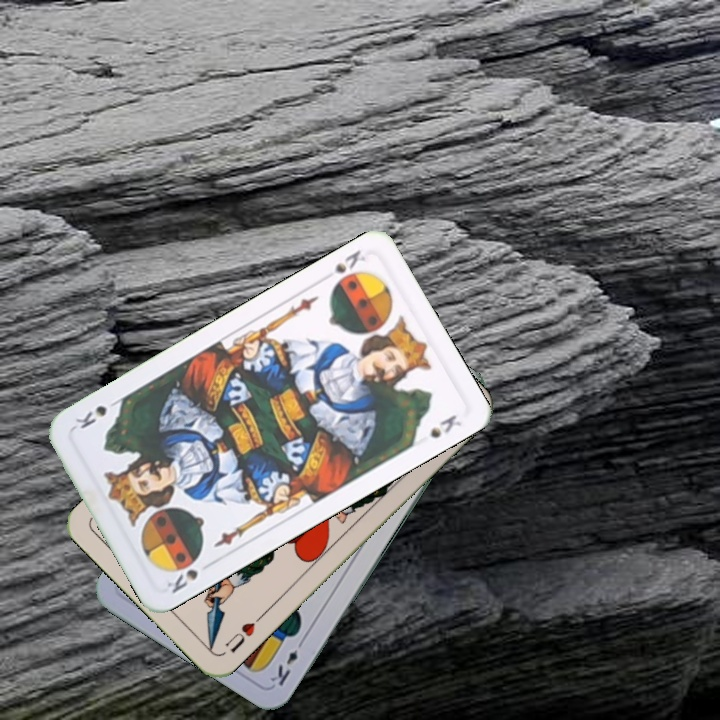EK: (266, 634, 308, 689)
HU: (220, 611, 266, 656)
SK: (317, 246, 368, 284), (161, 565, 201, 596)
